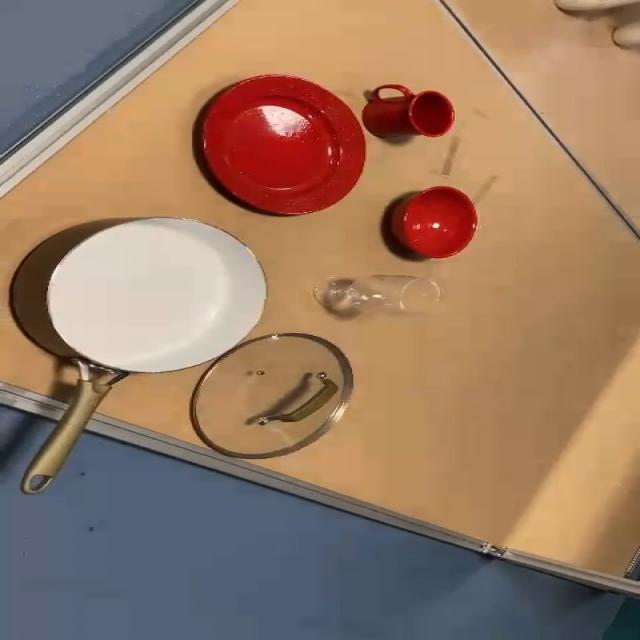Bowl: (385, 186, 480, 269)
Glass: (315, 278, 448, 319)
Plate: (204, 72, 364, 224)
cup: (348, 86, 475, 140)
pot: (15, 216, 268, 490)
